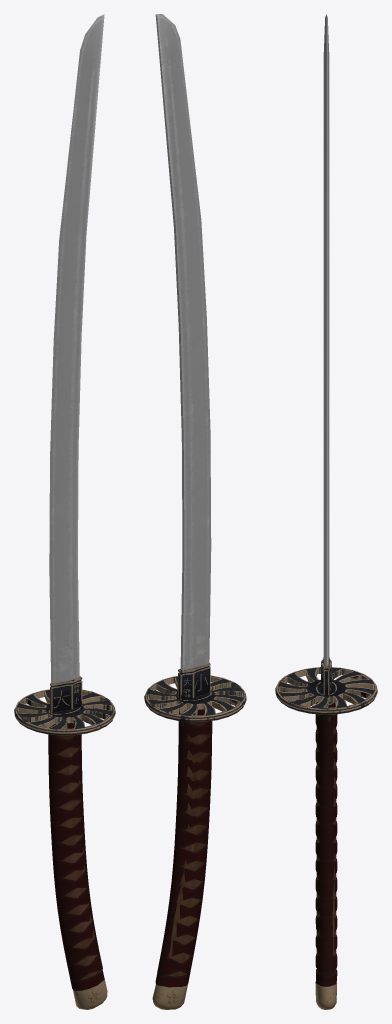
Rendered from katana_hi.glb.
3 views of the same model, side by side, from view 1: azimuth 30°, elevation 25°; view 2: azimuth 210°, elevation 25°; view 3: azimuth 270°, elevation 25° (orthographic).
Parts seen in each view (by area): view 1: antique_katana_01; view 2: antique_katana_01; view 3: antique_katana_01.
Boxes of the visible parts, x1,y1,x2,y2 form: antique_katana_01: (14,14,115,1009); antique_katana_01: (144,14,246,1009); antique_katana_01: (275,14,377,1009).
Bounding box in the file's own units: 0.0934 × 1 × 0.0934.
1 material, 1 textured.
